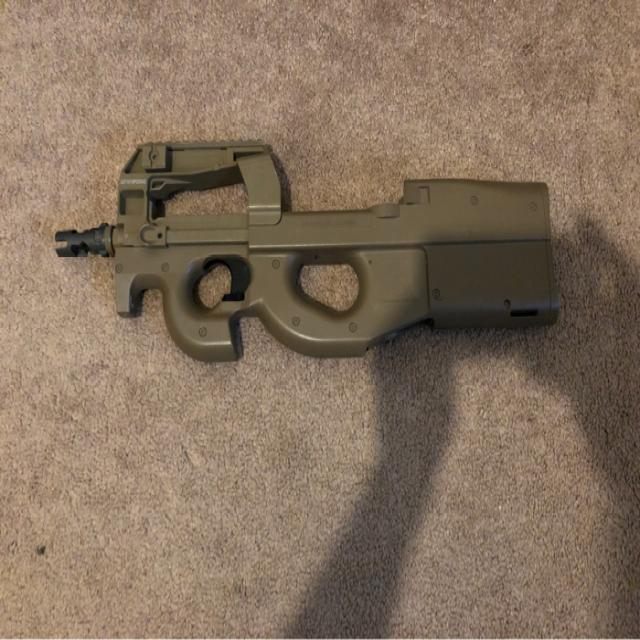SMG: (57, 140, 560, 366)
